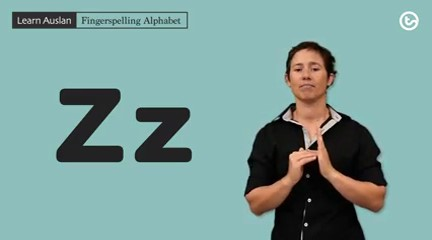Z: (280, 121, 344, 196)
